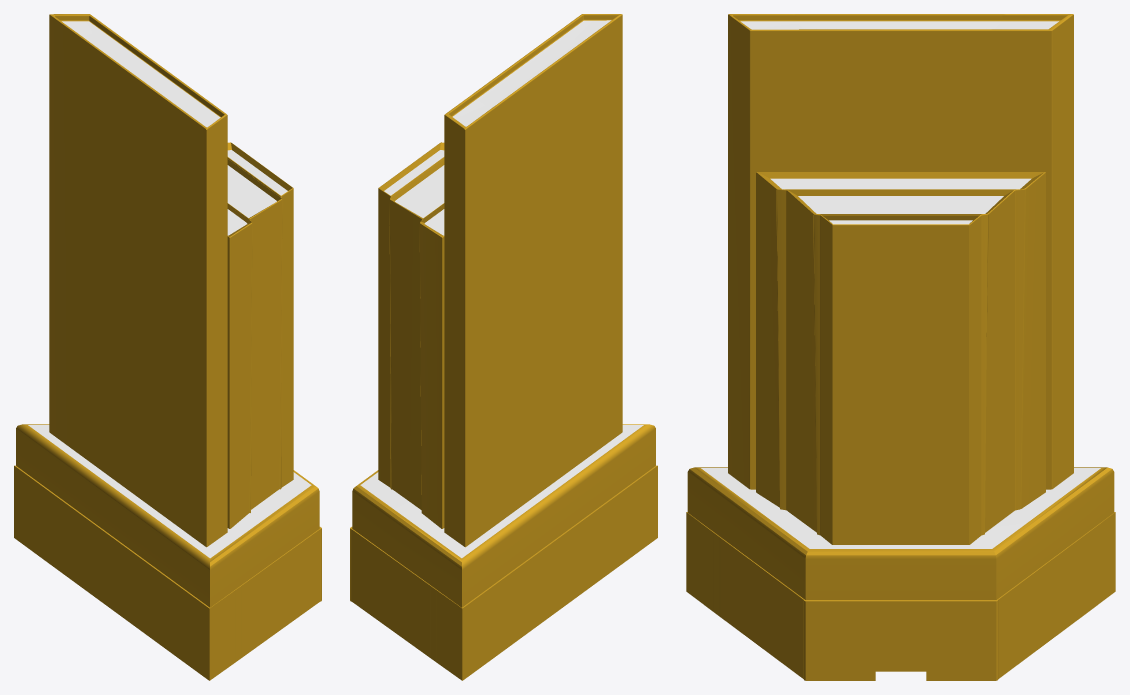
Rendered from Building_25_Yellow.glb.
3 renders of one model, left to right at view 1: azimuth 30°, elevation 25°; view 2: azimuth 150°, elevation 25°; view 3: azimuth 270°, elevation 25°, orthographic. The views are drawn at different scales.
Parts seen in each view (by area): view 1: pCube20; view 2: pCube20; view 3: pCube20.
Boxes of the visible parts, <box> form: pCube20: <box>14,14,321,680</box>; pCube20: <box>350,14,657,680</box>; pCube20: <box>686,14,1115,680</box>.
Size of the model in its own units: 2369 by 7240 by 4805.
